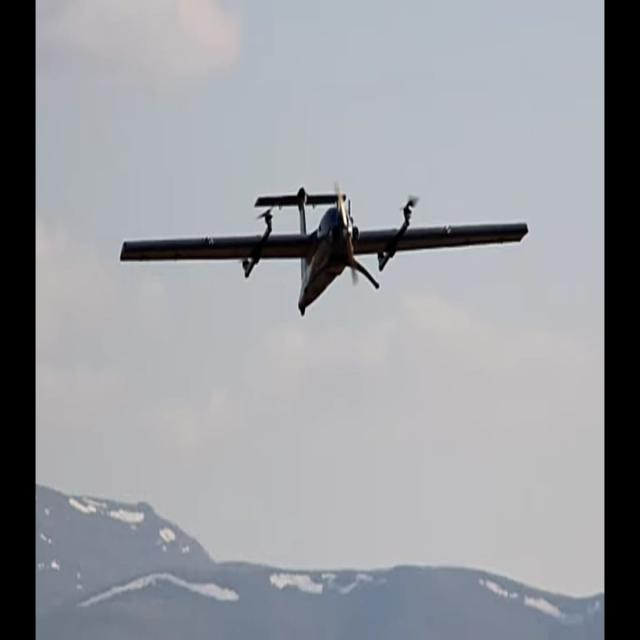iha: (118, 175, 530, 321)
